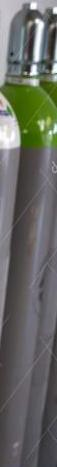cylinder: (0, 1, 57, 467)
